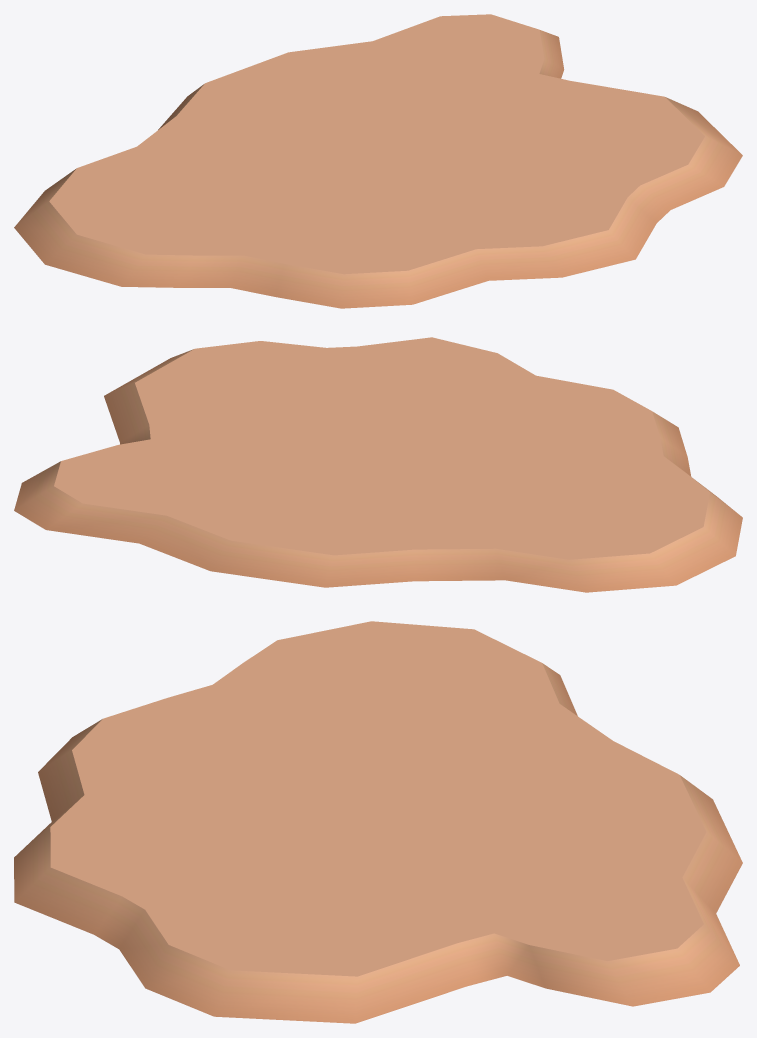
Rendered from kenney-pirate-patch-sand.glb.
3 views of the same model, one above another, from view 1: azimuth 30°, elevation 25°; view 2: azimuth 150°, elevation 25°; view 3: azimuth 270°, elevation 25° (orthographic). The views are drawn at different scales.
Visible parts, largest first — view 1: patch-sand; view 2: patch-sand; view 3: patch-sand.
Part boxes in pixels (bbox=[...]): patch-sand: bbox=[14, 14, 742, 308]; patch-sand: bbox=[14, 337, 742, 592]; patch-sand: bbox=[14, 621, 742, 1023].
Size of the model in its own units: 7.74 by 0.2503 by 6.04.
1 material, 1 textured.
